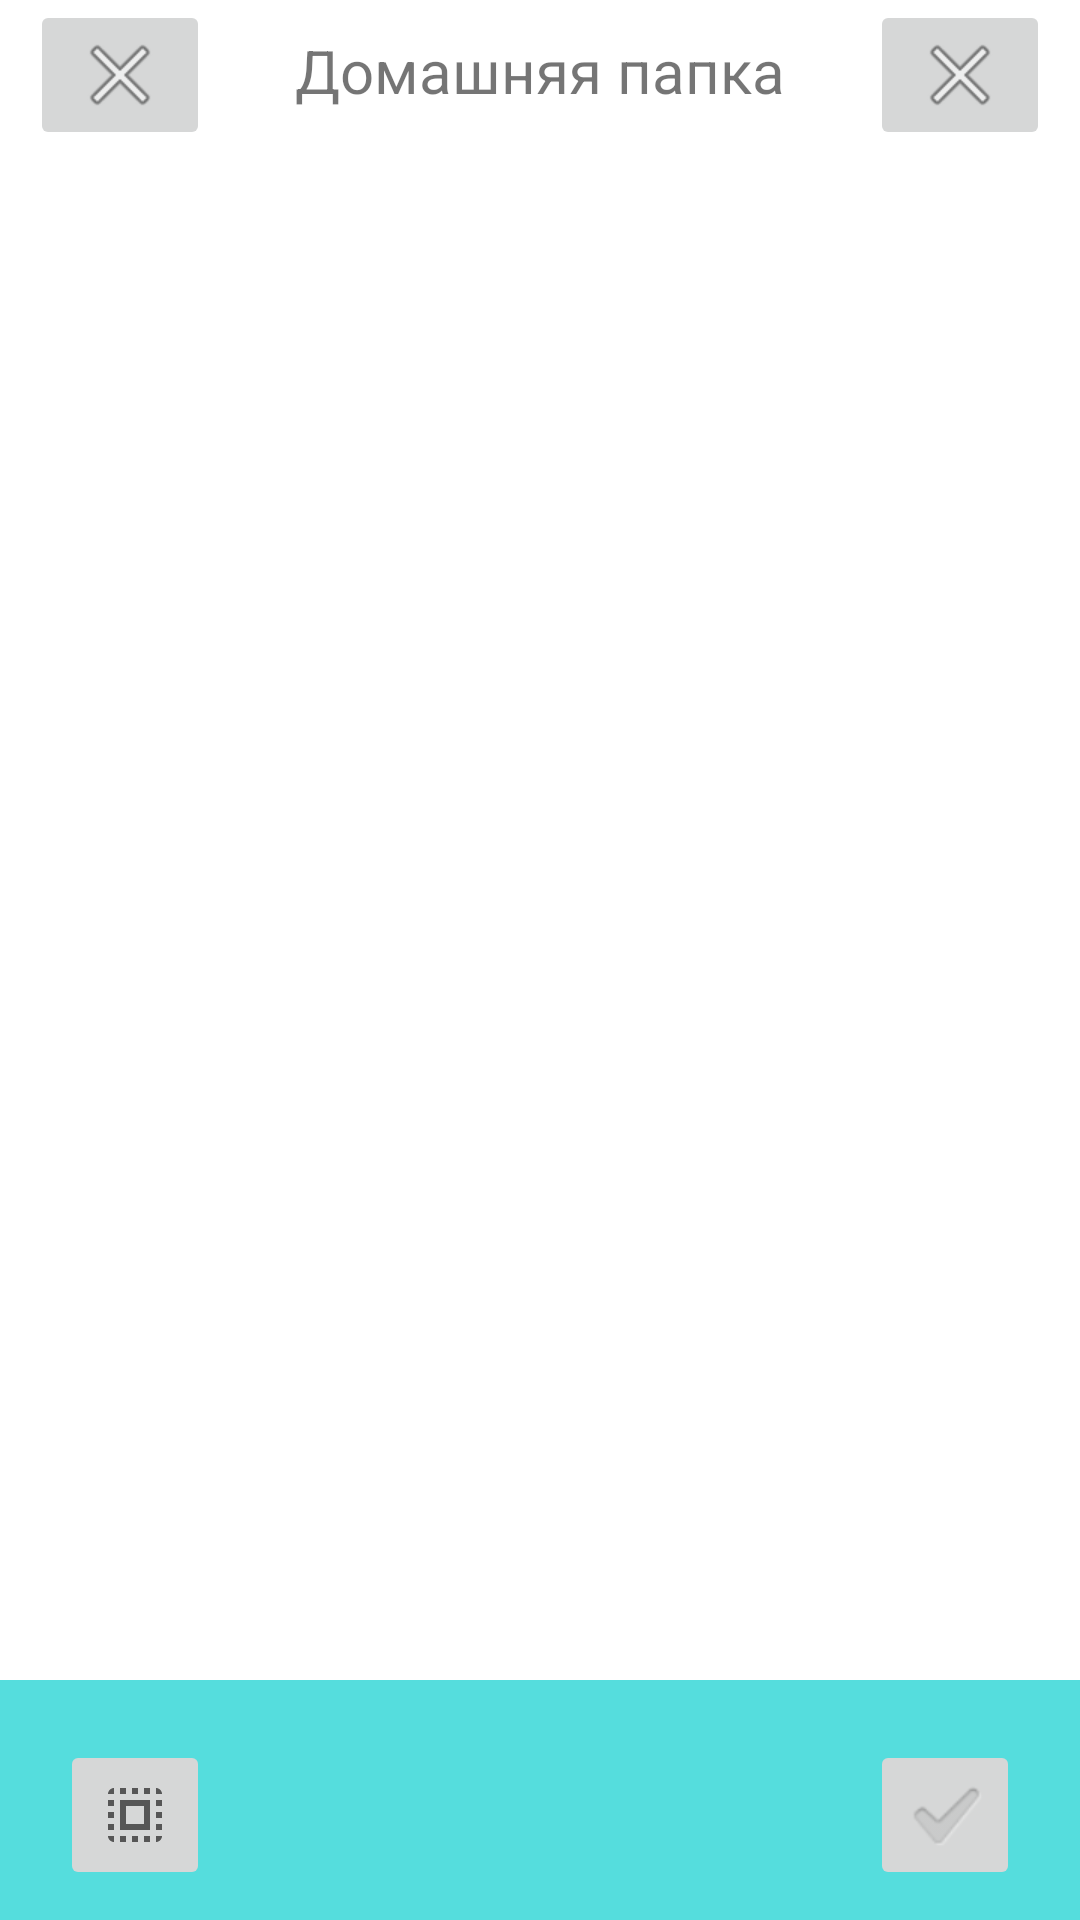

Screen size 1080*1920. Icon name, then its center in pixels as (x=x, y=y):
close clear cancel: (x=120, y=75), (x=960, y=75)
